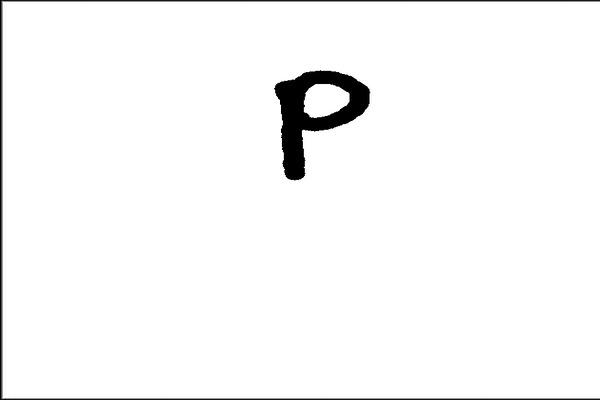P: (273, 66, 374, 190)
